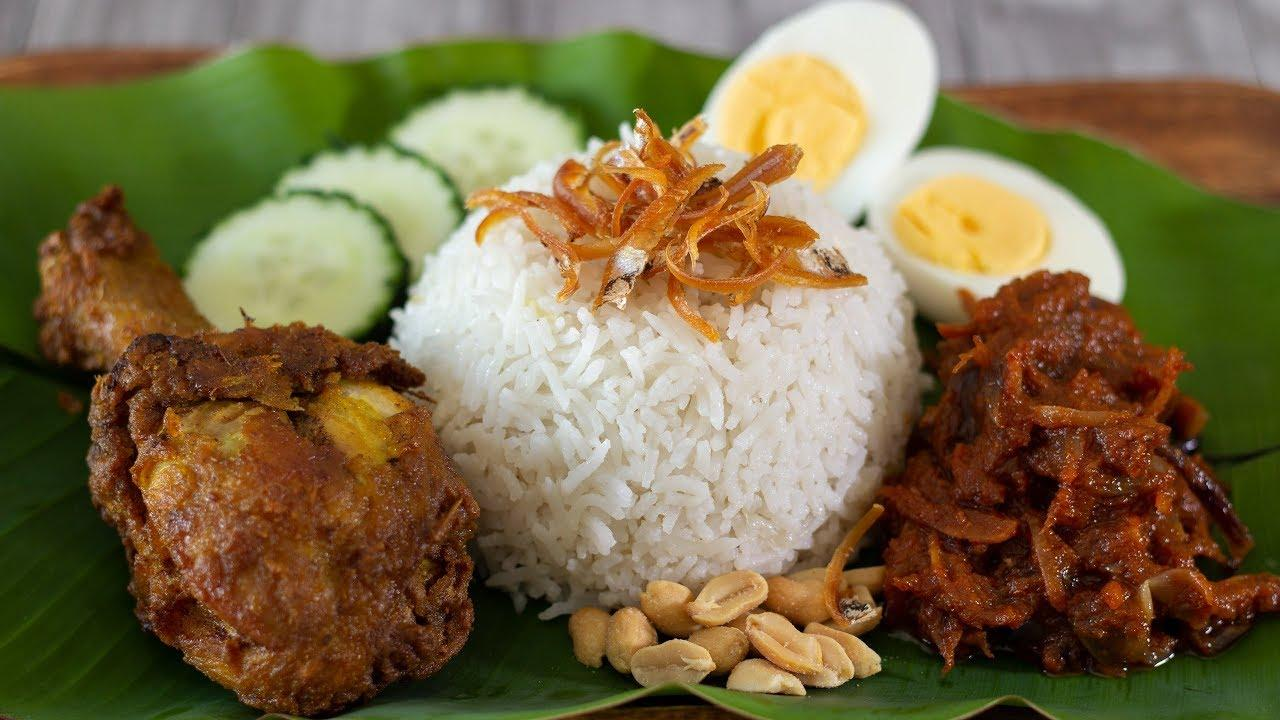Anchovies: (462, 115, 863, 330)
Boiled-Egg: (698, 0, 1126, 318)
Cucumber: (183, 92, 582, 340)
Fried-Chicken: (32, 193, 481, 720)
Peanuts: (573, 566, 885, 695)
Rice: (394, 180, 924, 623)
Sambal: (876, 274, 1280, 673)
